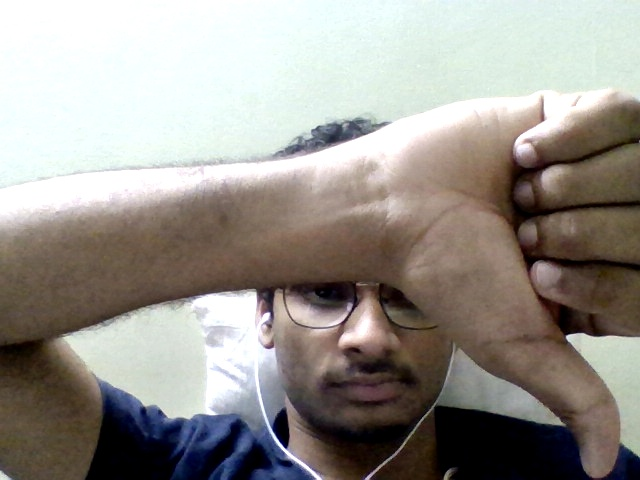ThumbsDown: (392, 88, 639, 480)
